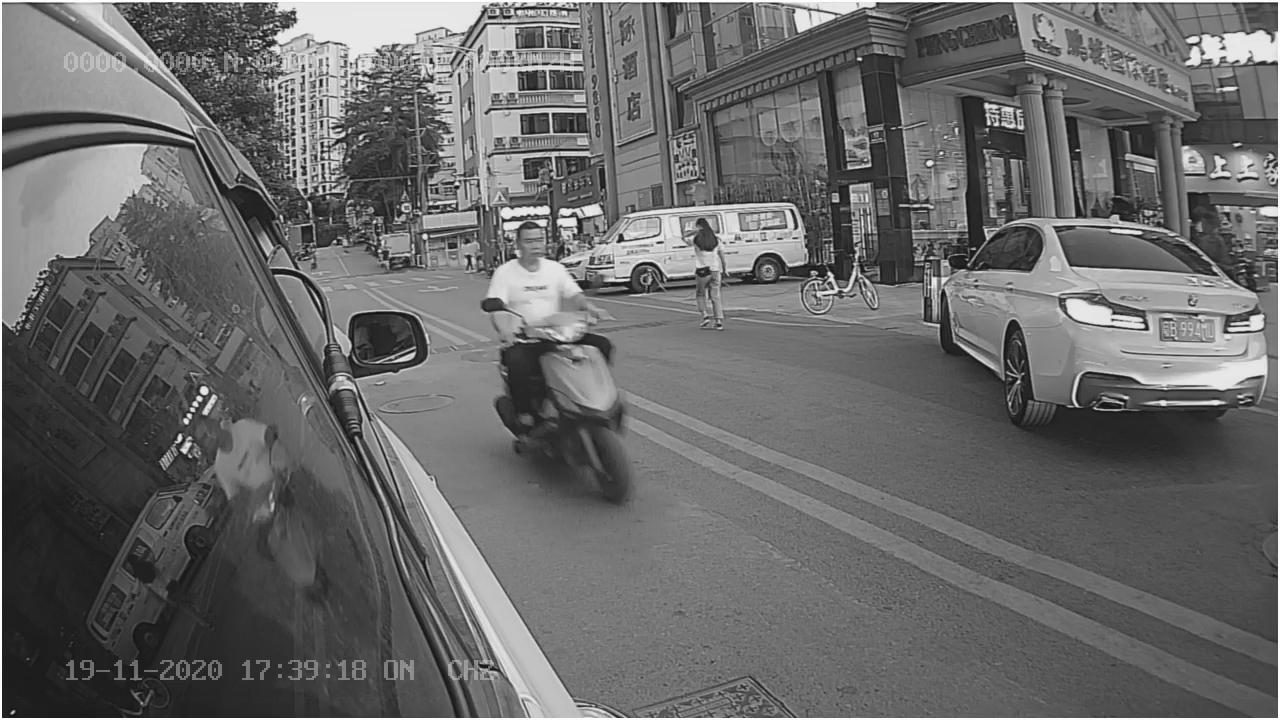person: (484, 223, 595, 355)
